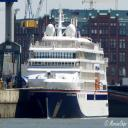cruises: (27, 9, 111, 121)
